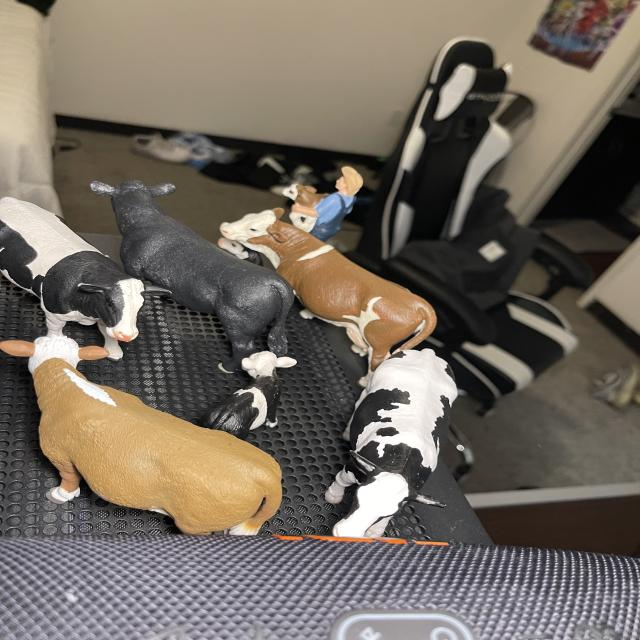cow: (0, 299, 300, 594), (56, 144, 321, 392), (216, 161, 445, 389), (0, 183, 165, 368), (320, 338, 462, 550), (189, 344, 305, 462), (280, 178, 324, 210)
person: (287, 160, 378, 250)
